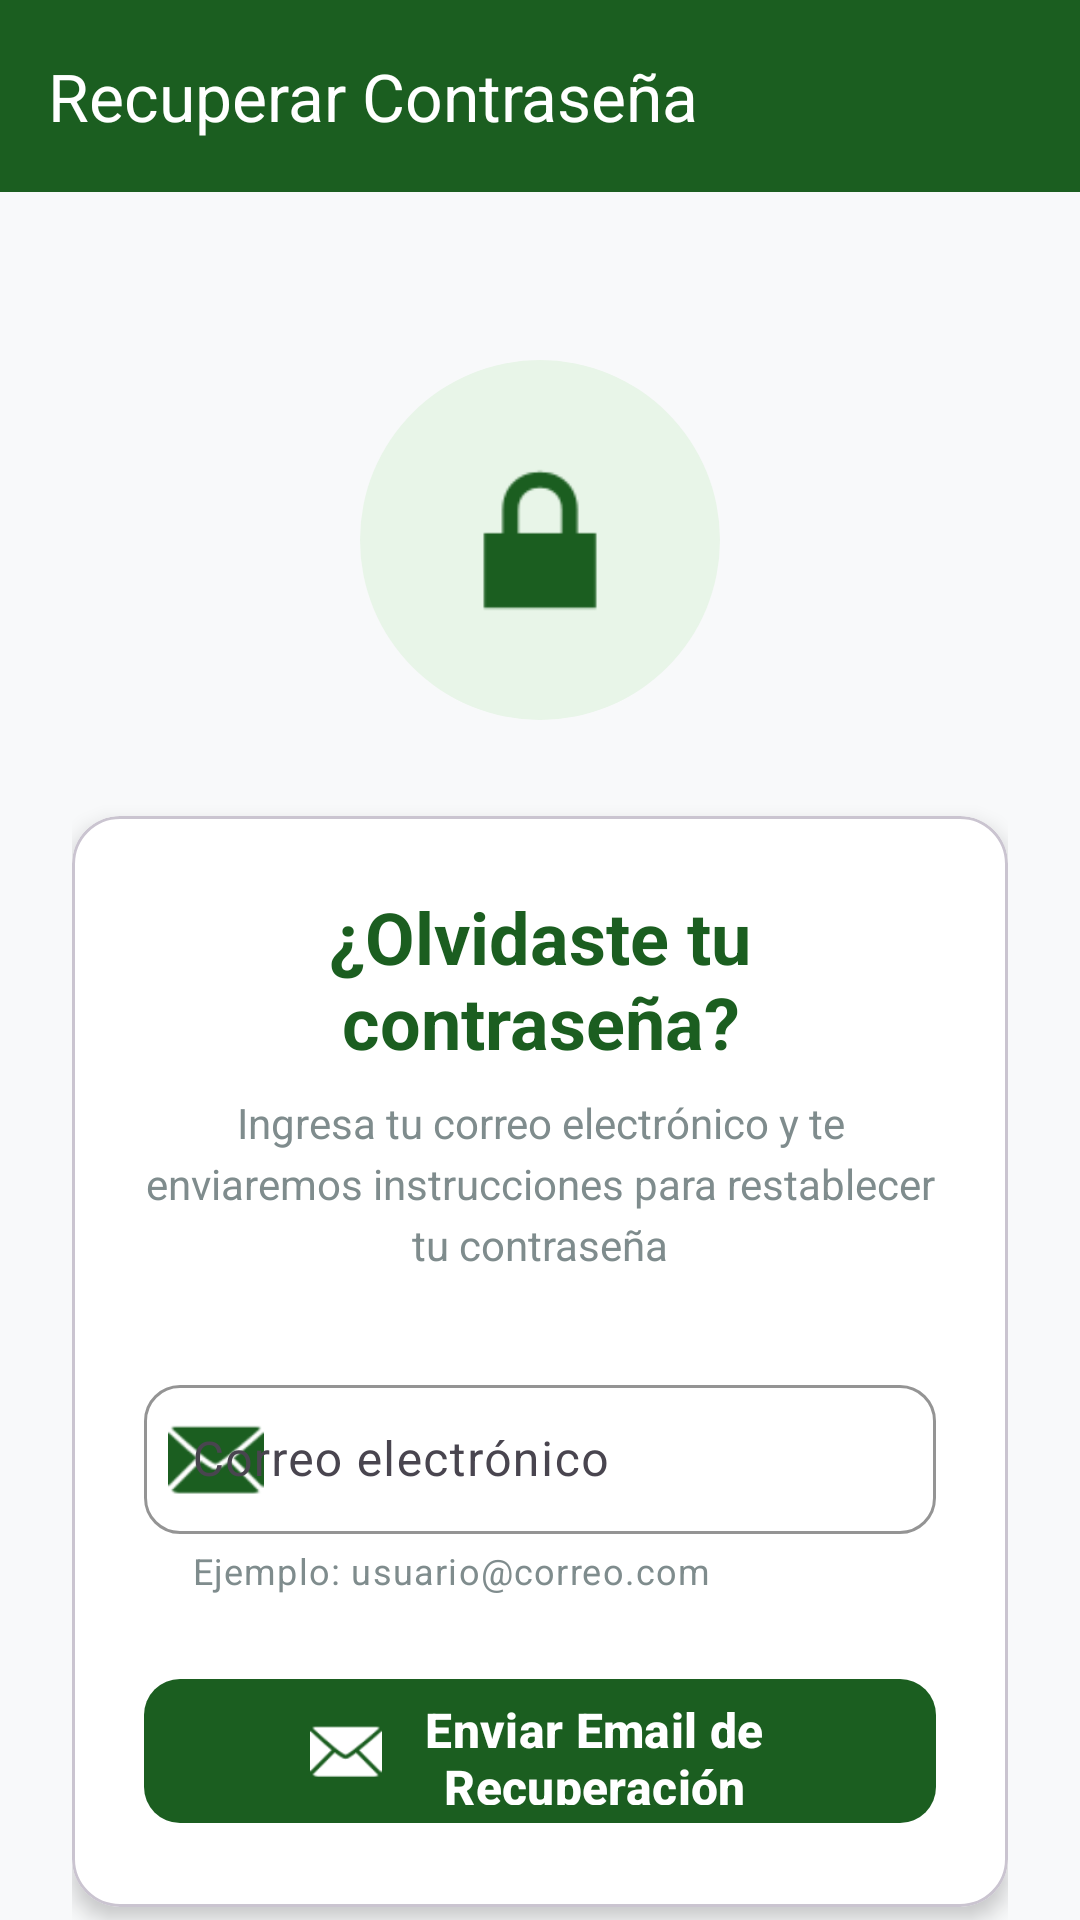

Icons on this 1080w x 1920h Android screen, each with its box as bbox(x1, y1, x2, y2):
lock: bbox(483, 469, 597, 611)
